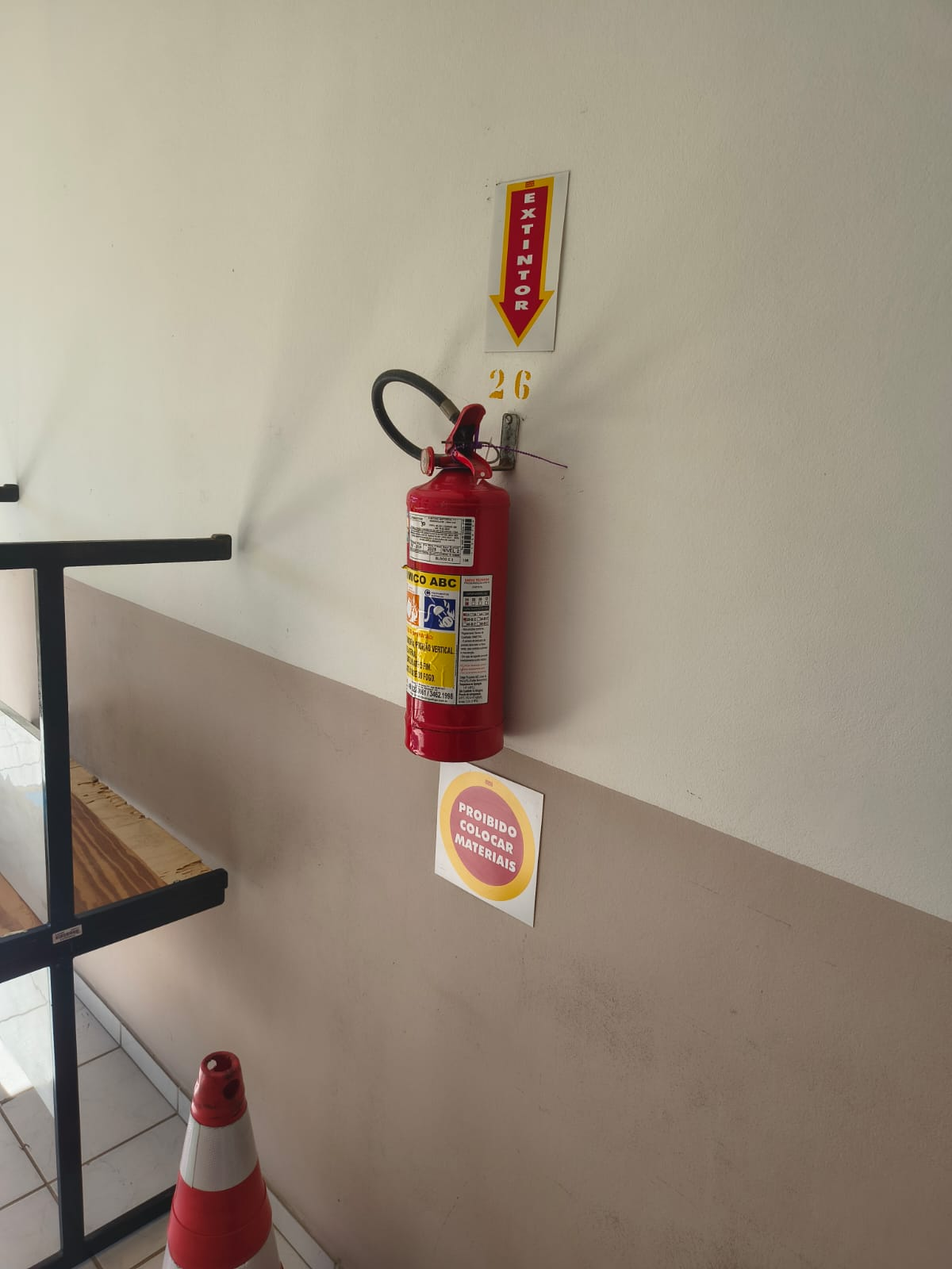cone: (167, 1050, 279, 1269)
